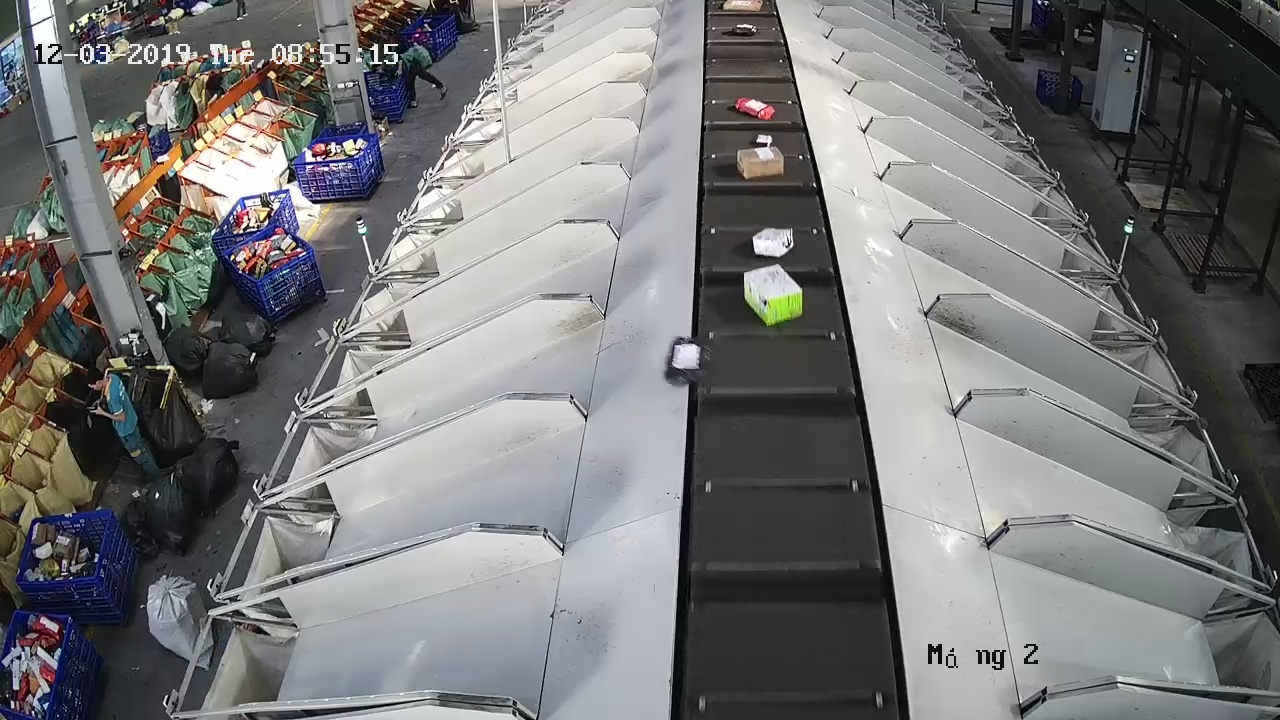parcel: (742, 263, 804, 328), (663, 335, 714, 388), (751, 226, 796, 259), (735, 95, 777, 120)
